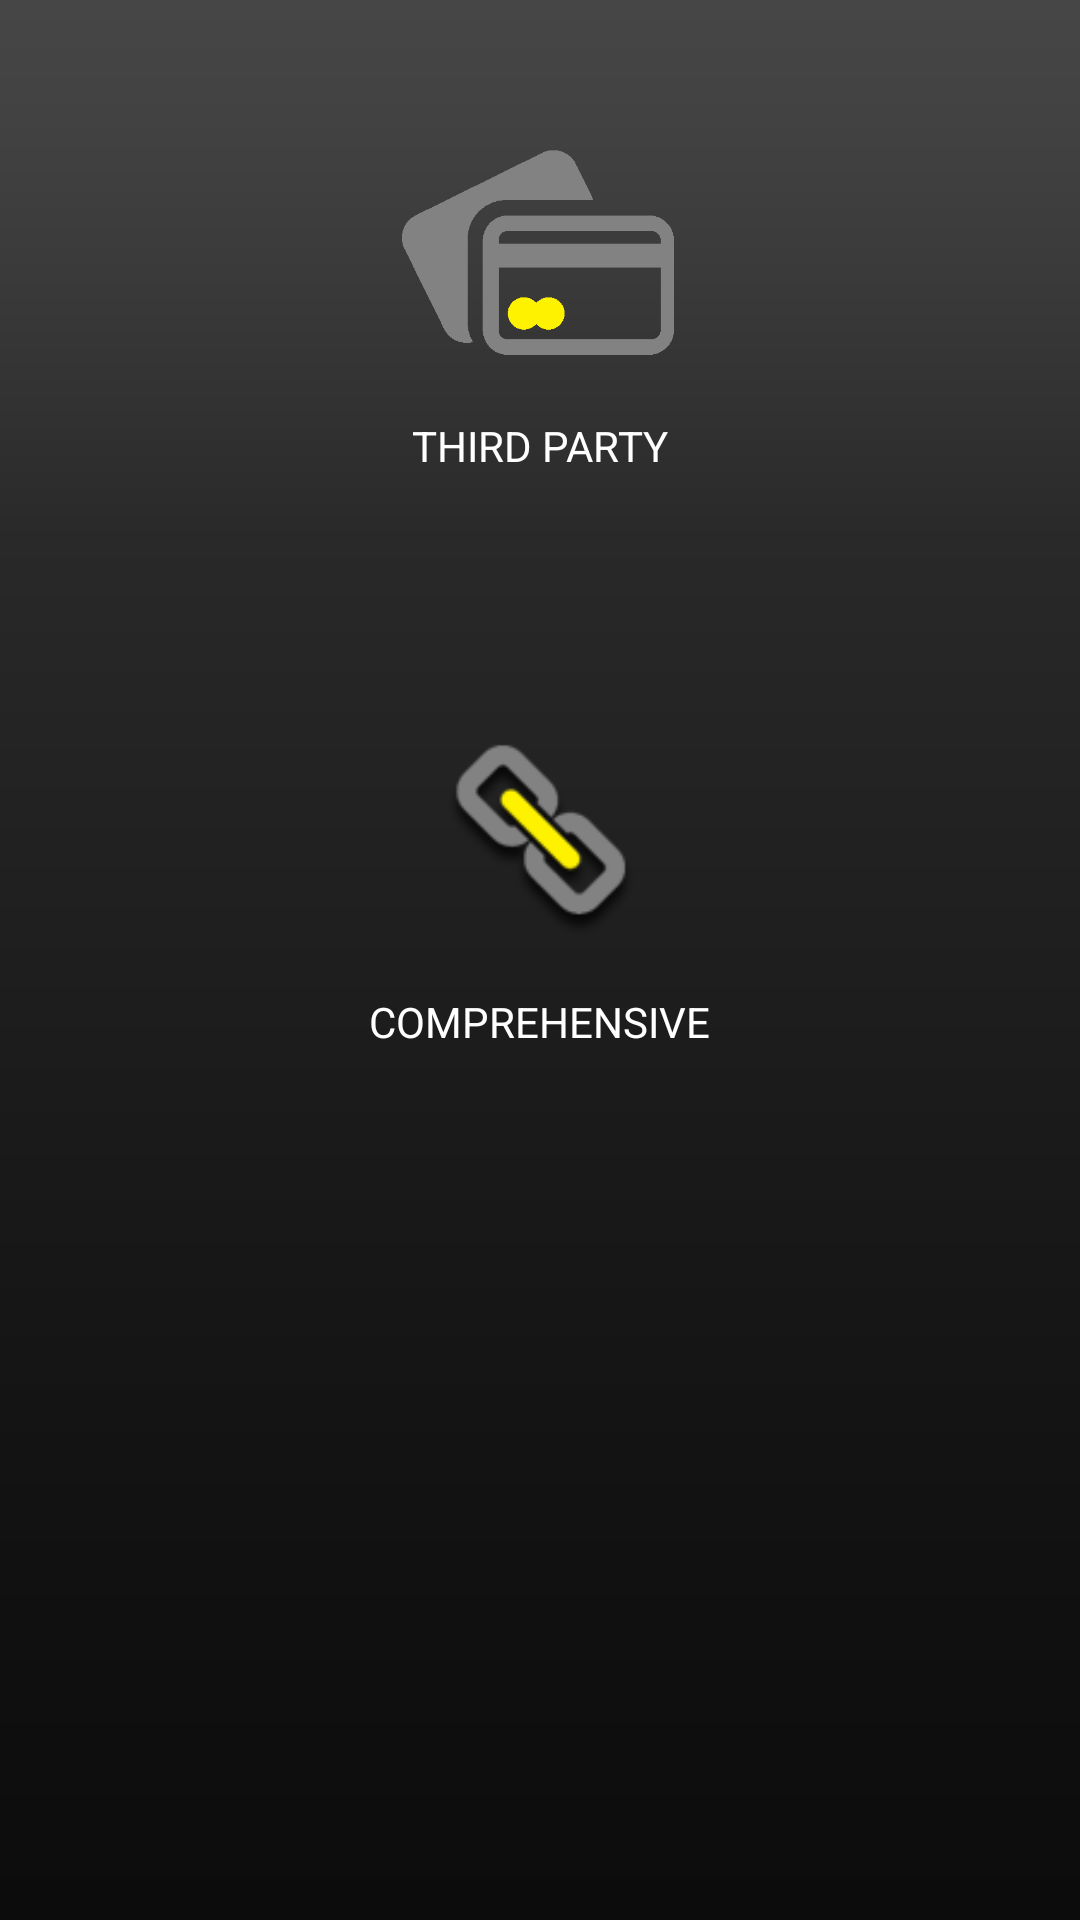

Where to tap for icons on this 1080px×1920px app screen, as [x,y]:
payment mode: [538,252]
